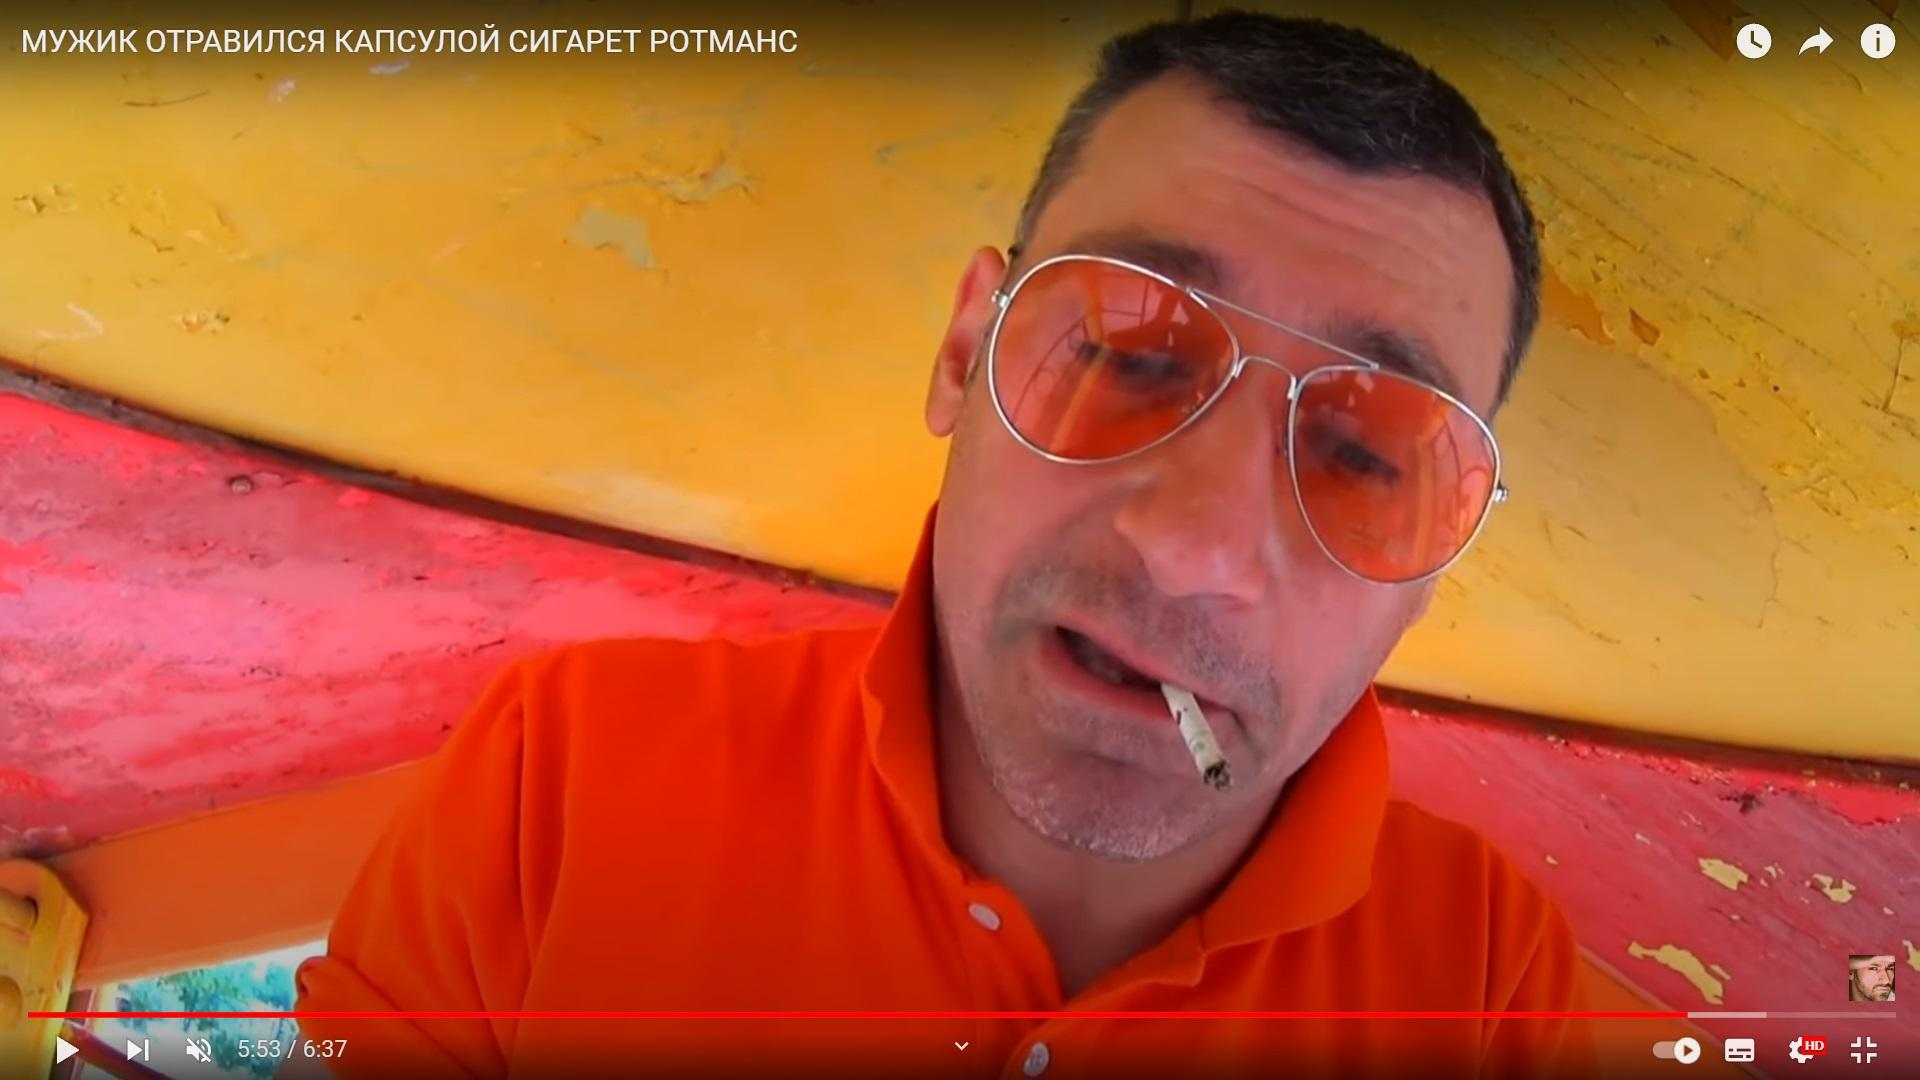cigarette: (1163, 683, 1230, 791)
